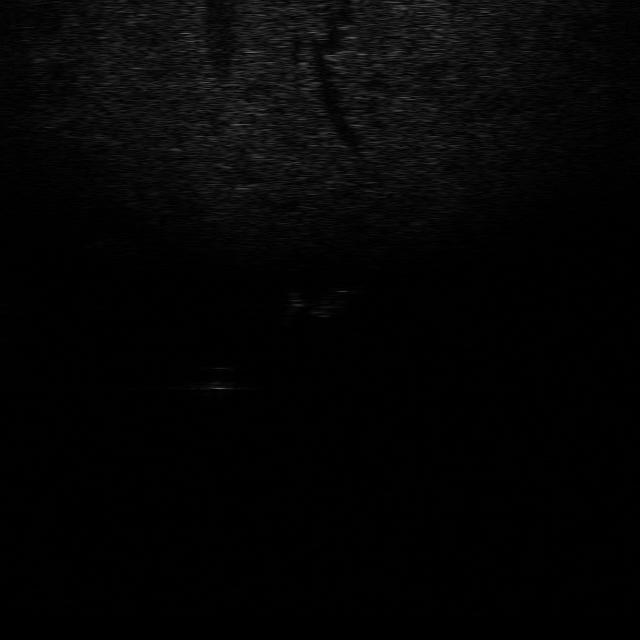ball: (194, 363, 246, 393)
human body: (276, 280, 365, 324)
